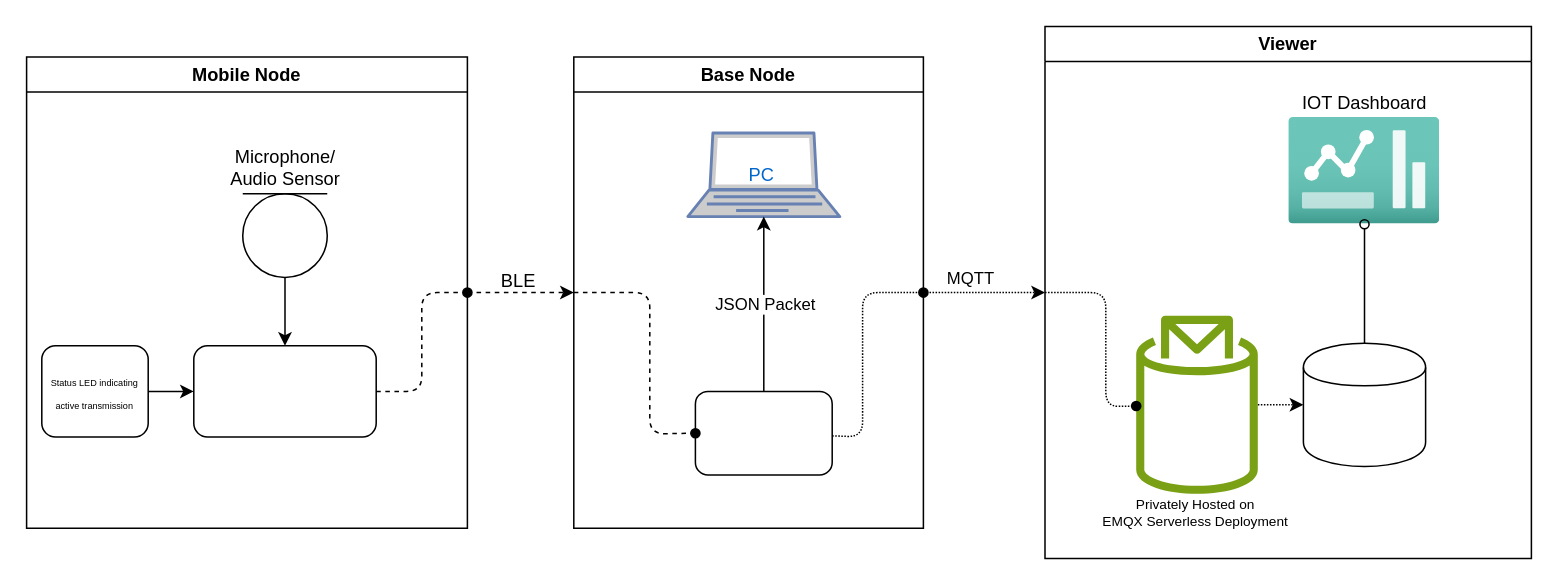
This 1558x585 diagram has some shape labels left out. Each missing label, with the centre of its shape:
"Device Database" goes at [1364,404].
"MQTT Topic" goes at [1196,404].
"Reciever Node" goes at [763,432].
"Transmitter Node" goes at [284,390].
